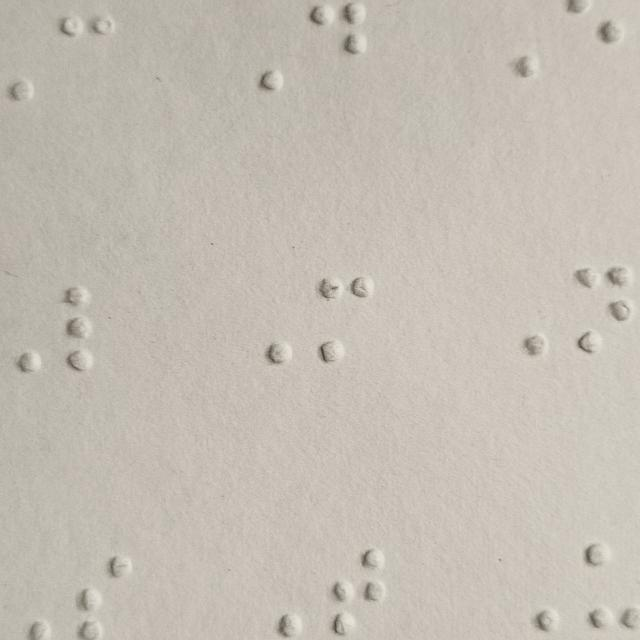D: (309, 0, 370, 93)
M: (319, 275, 374, 368)
N: (570, 266, 635, 359)
T: (332, 547, 388, 640)
capital: (497, 543, 562, 636), (225, 0, 286, 92), (241, 547, 301, 640), (240, 276, 296, 369), (494, 265, 549, 358)
